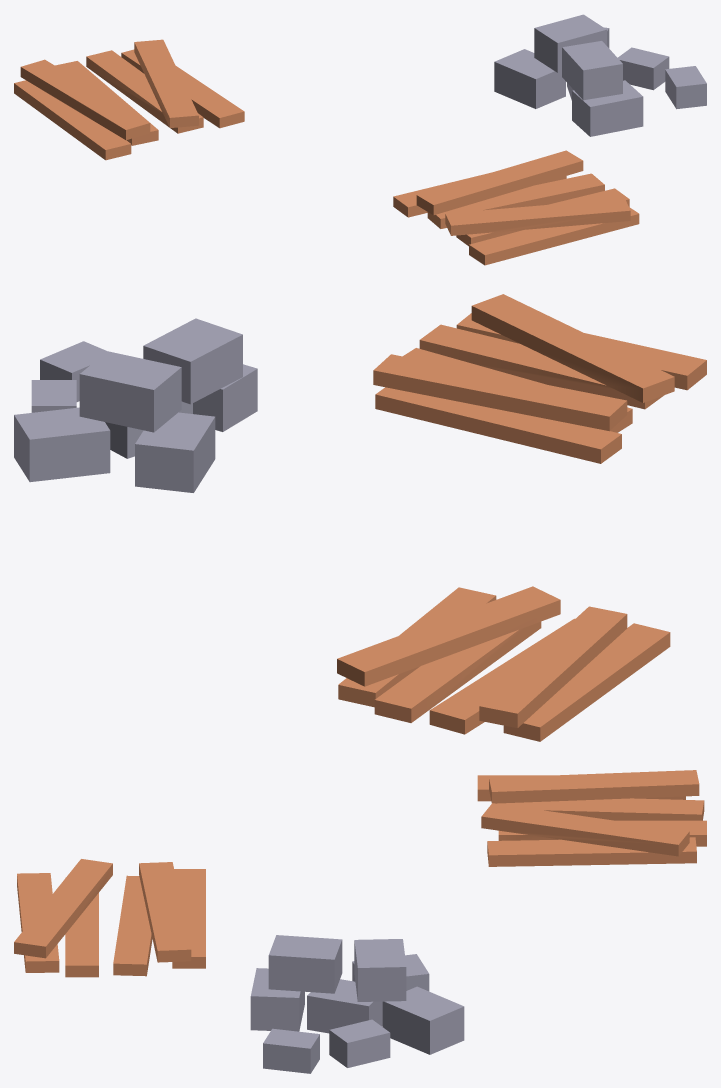
Rendered from Moulin_plan.fbx.
3 renders of one model, top to bottom at view 1: azimuth 30°, elevation 25°; view 2: azimuth 150°, elevation 25°; view 3: azimuth 270°, elevation 25°, orthographic. The views are drawn at different scales.
Parts seen in each view (by area): view 1: debris_wood_18, debris_wood_15, debris_bricks_19; view 2: debris_wood_18, debris_wood_15, debris_bricks_19; view 3: debris_bricks_19, debris_wood_15, debris_wood_18.
Boxes of the visible parts, bbox=[...] form: debris_wood_18: bbox=[393, 150, 639, 265]; debris_wood_15: bbox=[14, 39, 244, 160]; debris_bricks_19: bbox=[494, 14, 706, 136]; debris_wood_18: bbox=[373, 294, 706, 463]; debris_wood_15: bbox=[337, 586, 670, 741]; debris_bricks_19: bbox=[14, 318, 257, 492]; debris_bricks_19: bbox=[250, 935, 464, 1073]; debris_wood_15: bbox=[477, 770, 706, 866]; debris_wood_18: bbox=[14, 859, 205, 977].
Size of the model in its own units: 28.17 by 3.12 by 28.76.
